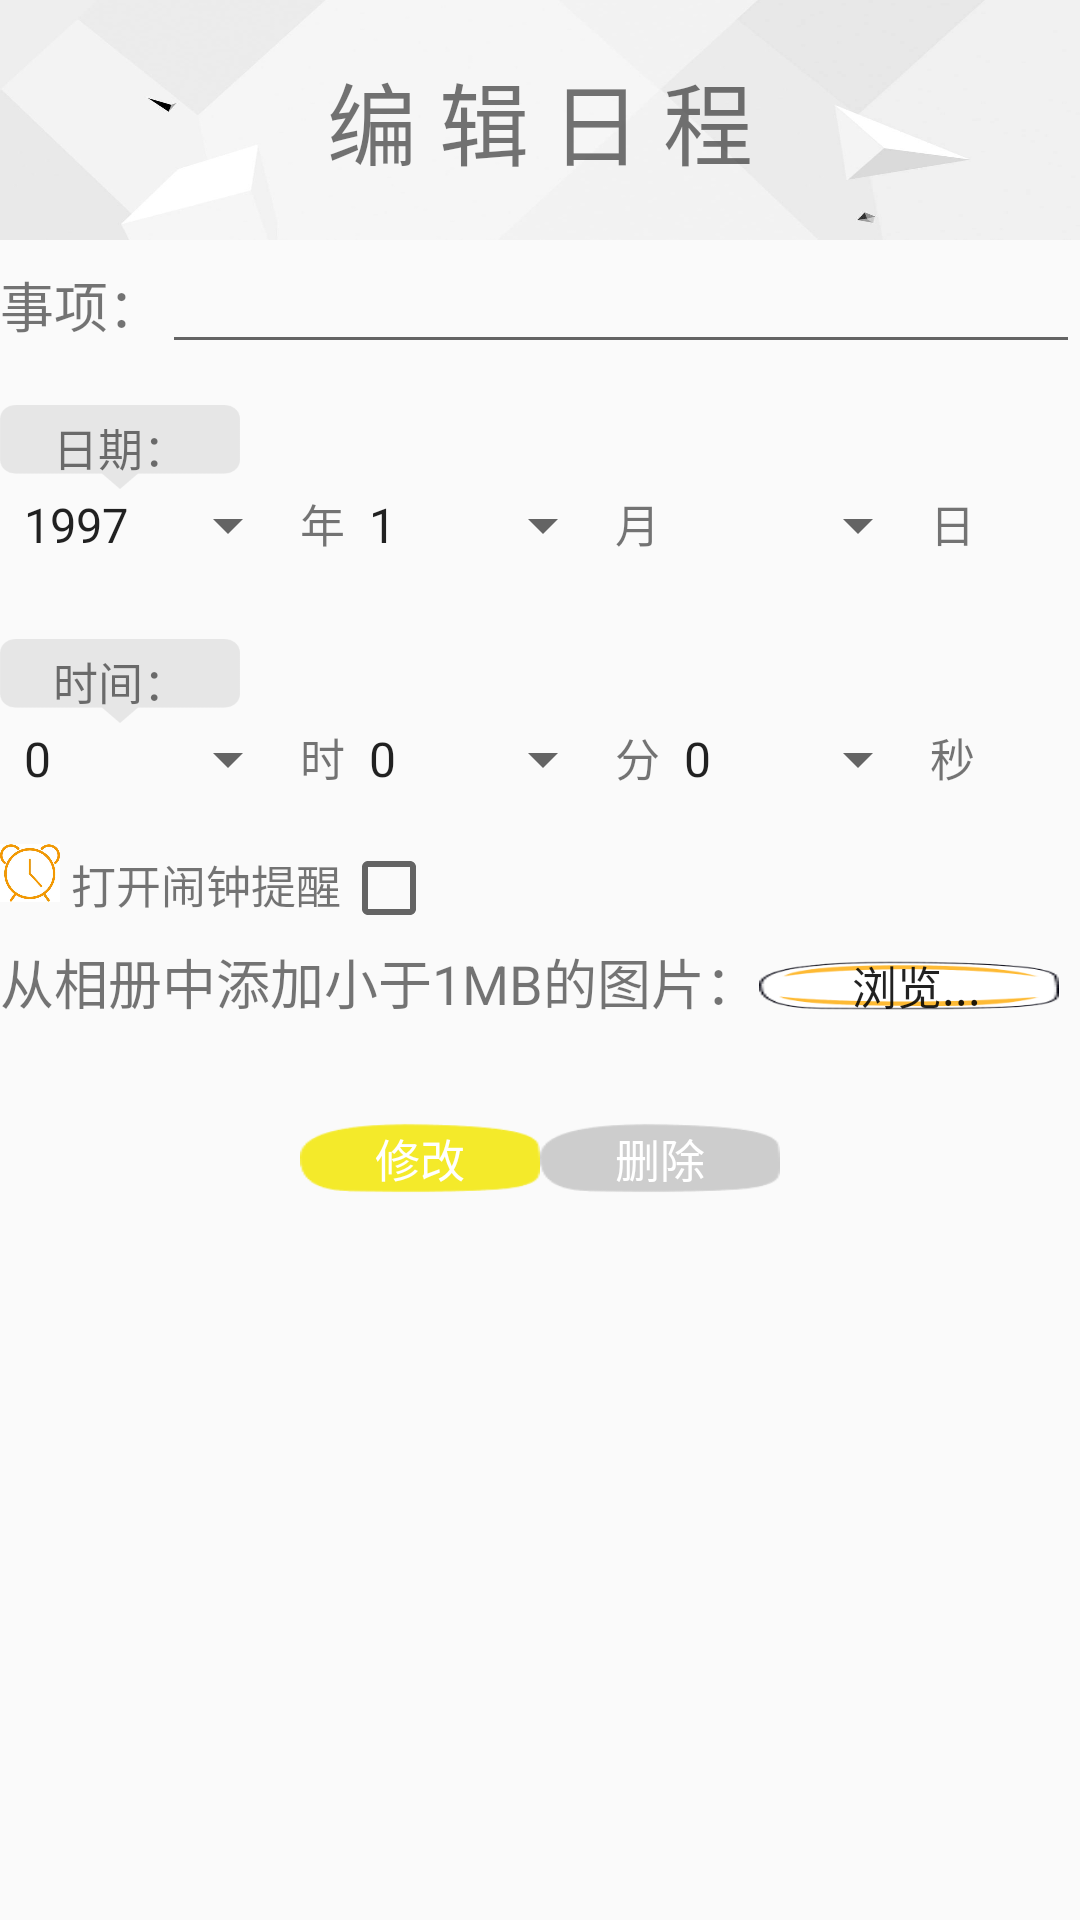

Where icons sit on this 1080px×1920px app screen, as (x1=x1, y1=y1, x2=x2, y2=y2):
clock: (x1=0, y1=844, x2=60, y2=902)
